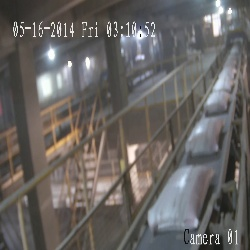cementbag: (147, 165, 210, 229), (185, 118, 224, 155), (205, 91, 229, 114), (212, 78, 234, 92), (218, 67, 235, 78), (224, 59, 236, 68)
